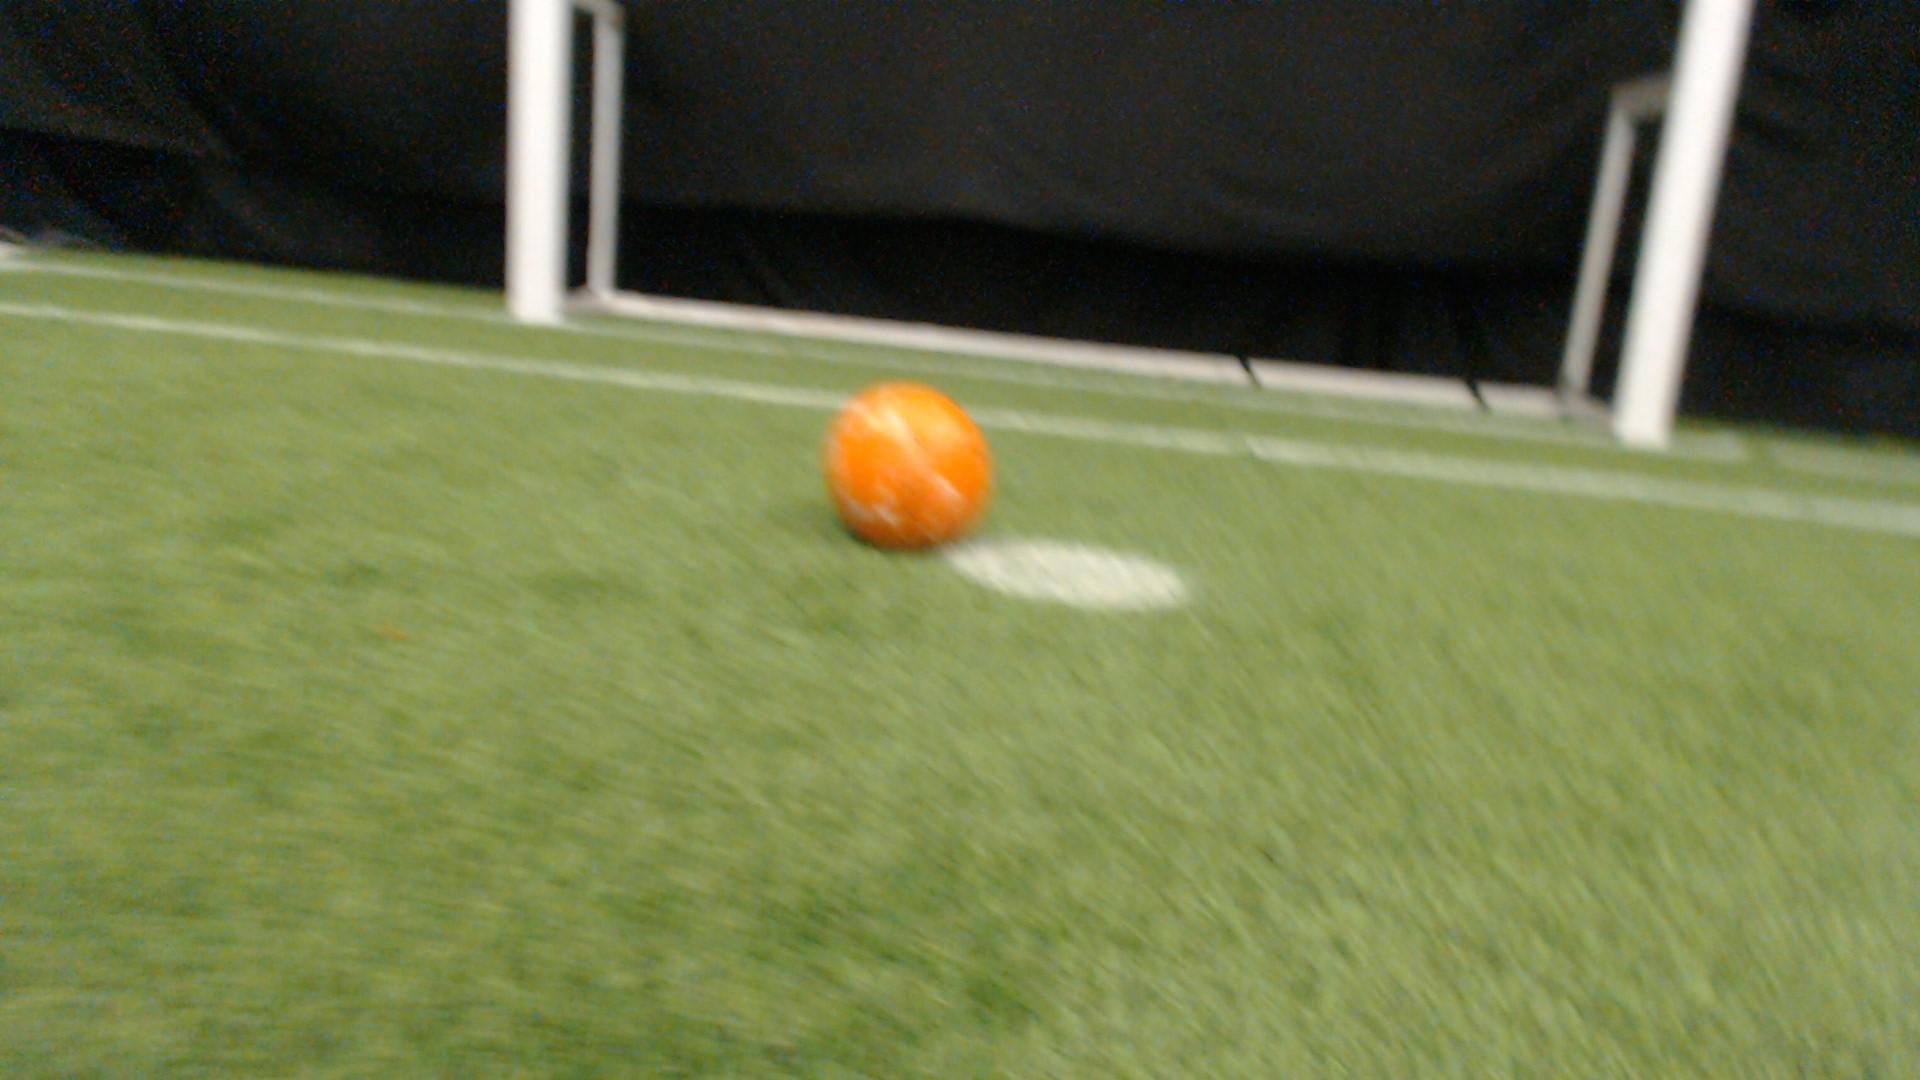bola: (808, 376, 1007, 558)
